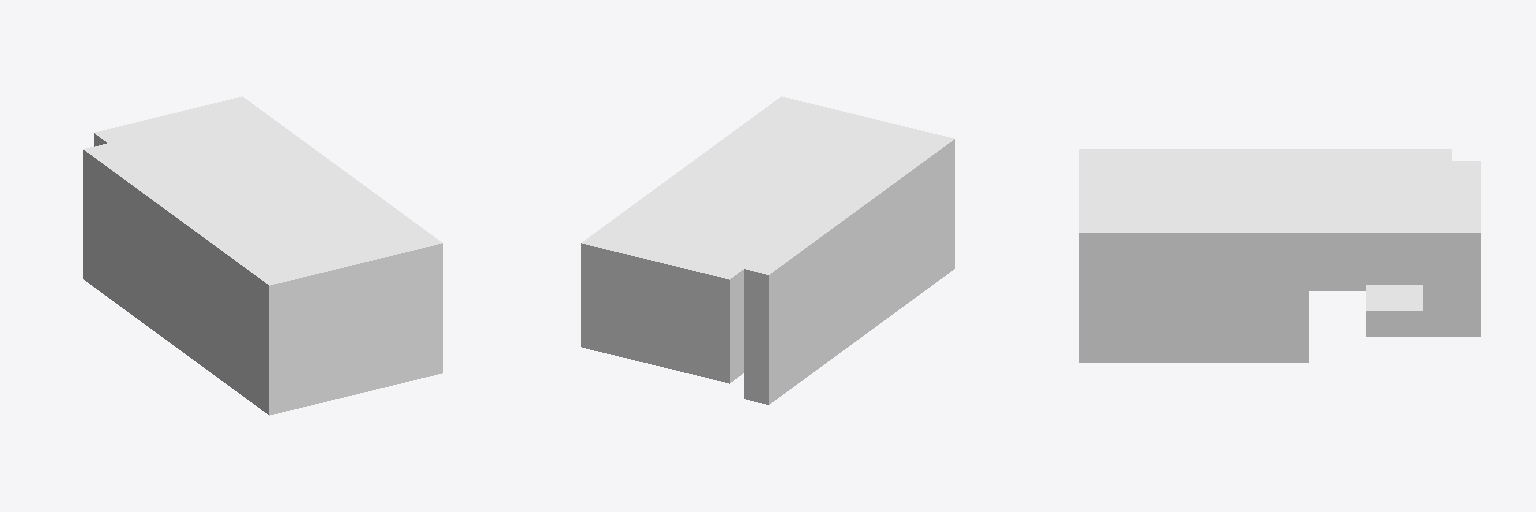
File: gloveR.obj
3 views of the same model, side by side, from view 1: azimuth 30°, elevation 25°; view 2: azimuth 150°, elevation 25°; view 3: azimuth 270°, elevation 25° (orthographic).
Parts seen in each view (by area): view 1: grobe; view 2: grobe; view 3: grobe.
Boxes of the visible parts, x1=… form: grobe: x1=83, y1=96, x2=442, y2=415; grobe: x1=581, y1=96, x2=954, y2=404; grobe: x1=1079, y1=149, x2=1480, y2=362.
Bounding box in the file's own units: 0.7 × 0.5 × 1.4.